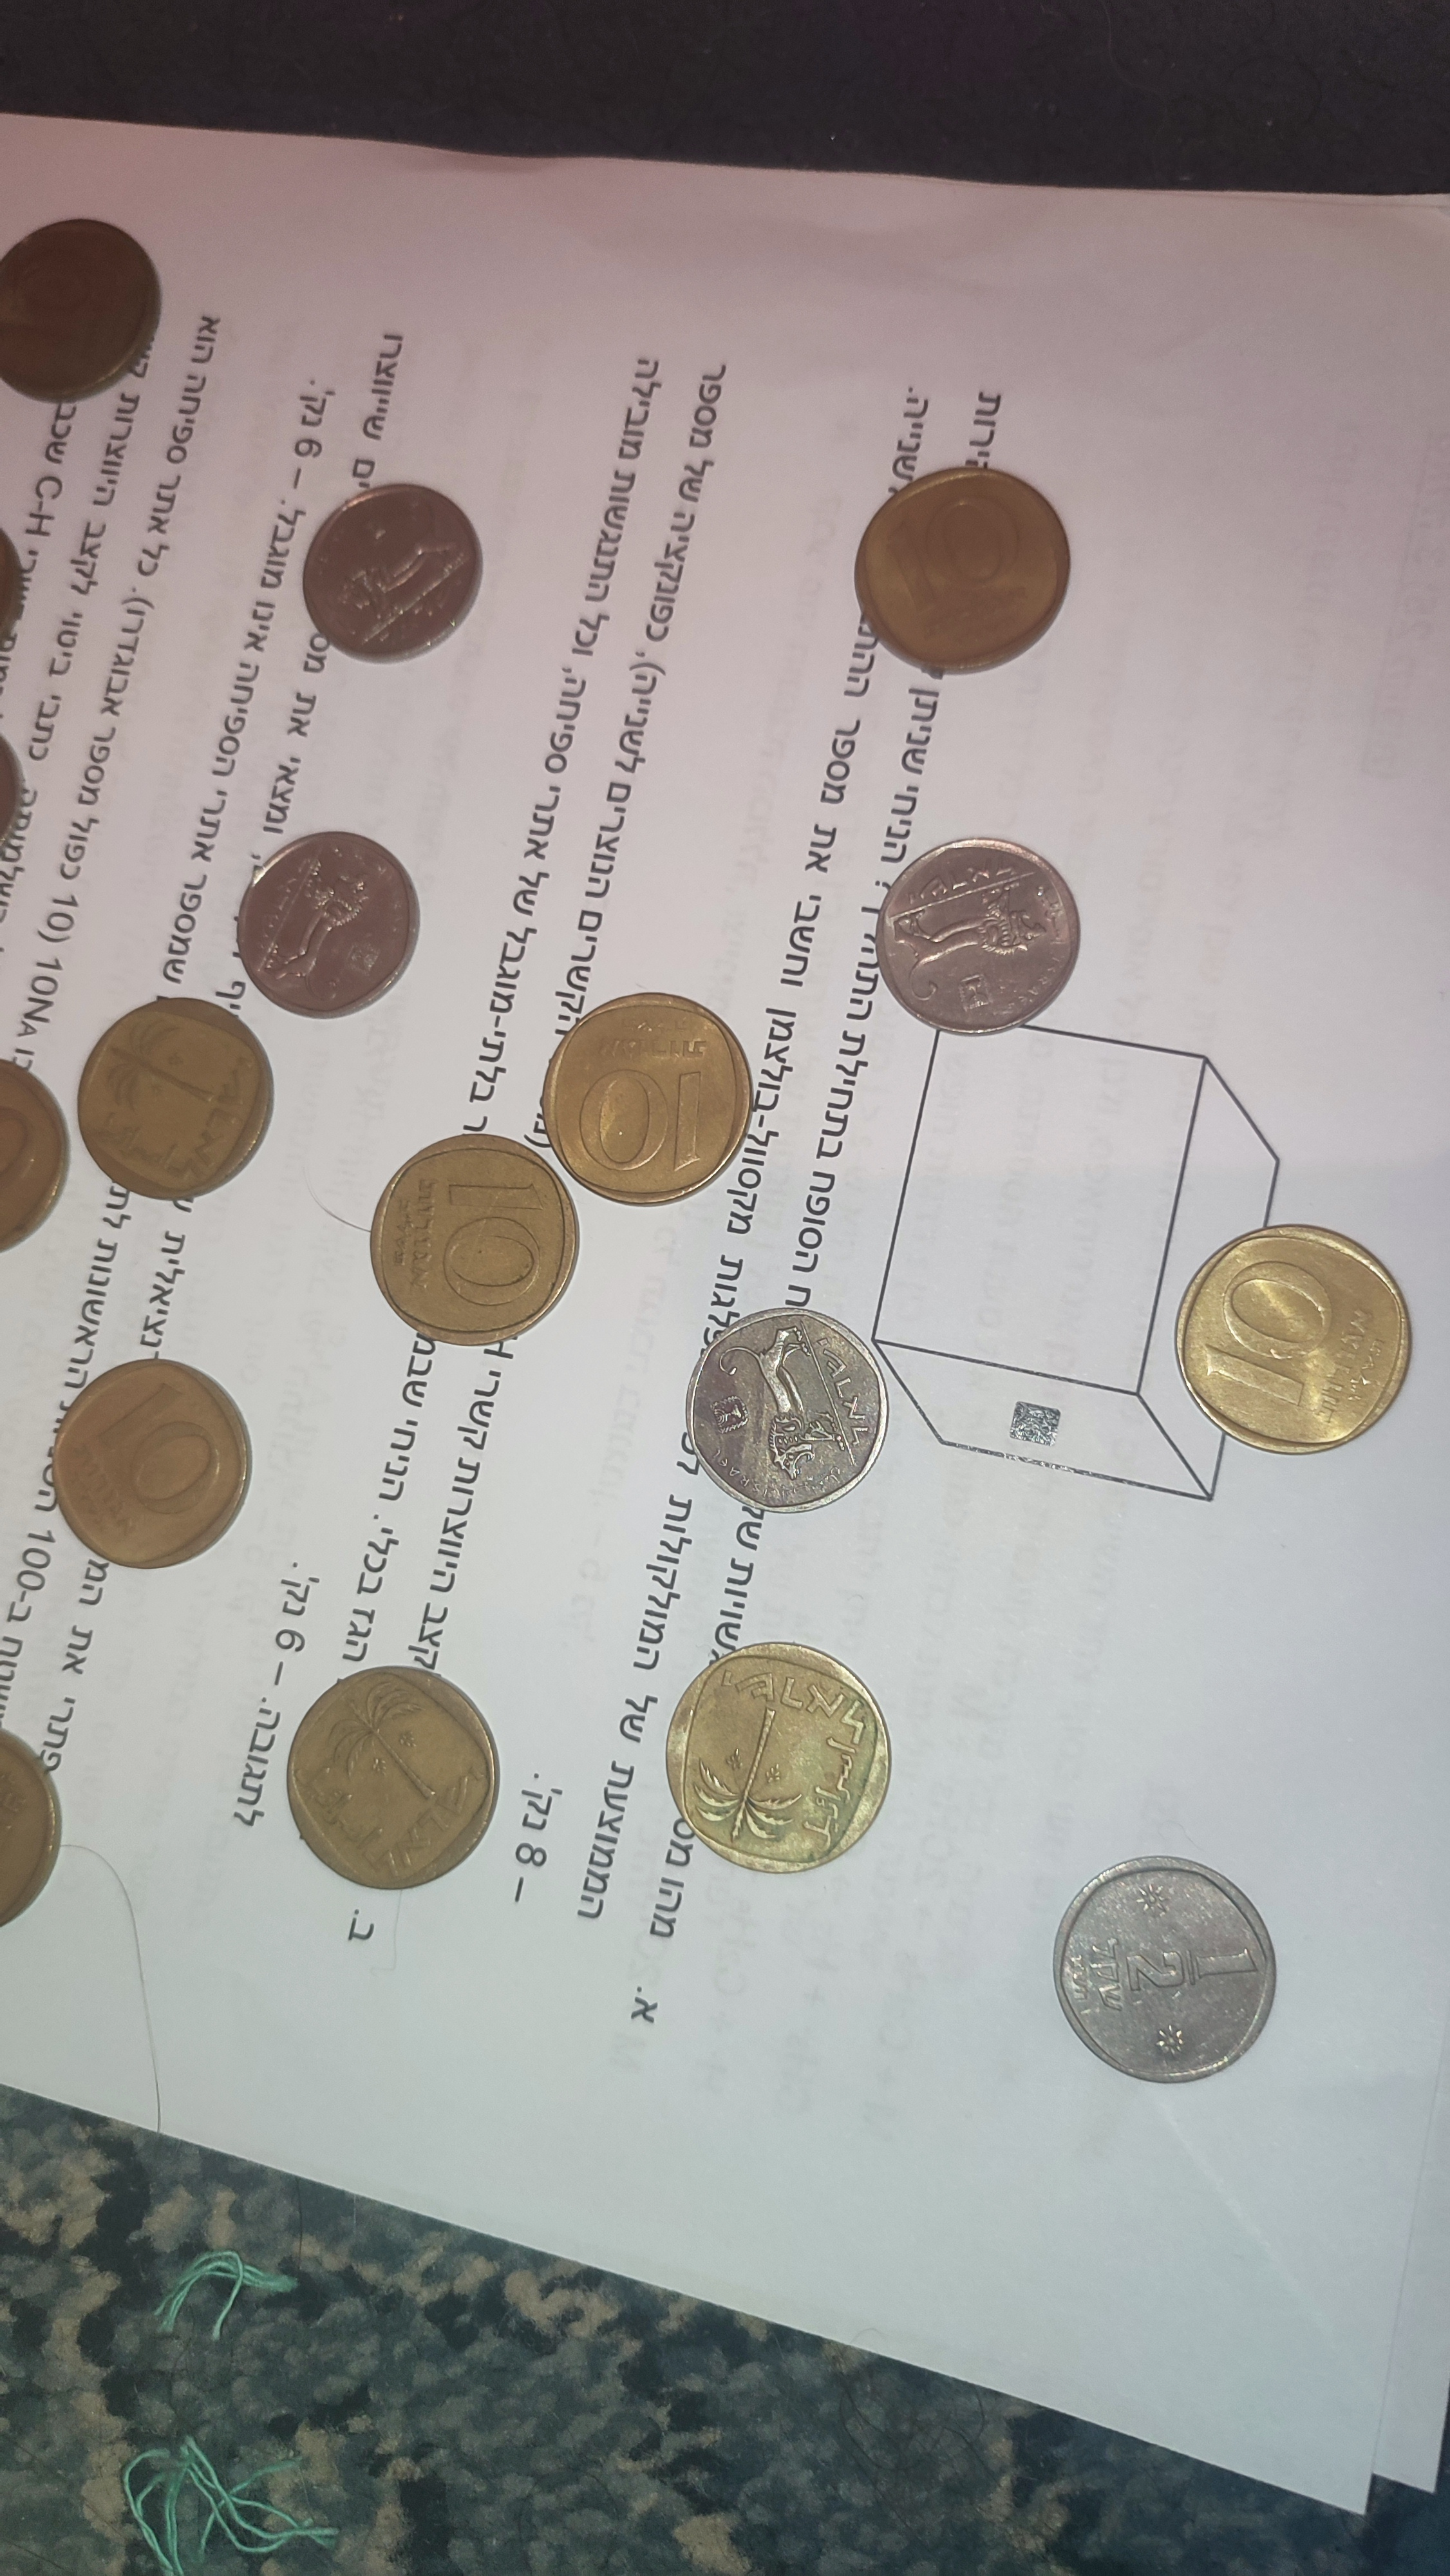1/2 old sheqel: (1049, 1851, 1280, 2088), (868, 833, 1086, 1042), (681, 1304, 891, 1514), (232, 828, 424, 1021), (299, 481, 486, 667)
10 old agora brown: (1172, 1223, 1415, 1456), (661, 1640, 893, 1877), (285, 1665, 502, 1891), (851, 462, 1073, 679), (539, 987, 755, 1212), (366, 1131, 582, 1348), (50, 1357, 253, 1571), (74, 994, 278, 1203), (0, 216, 163, 405)
